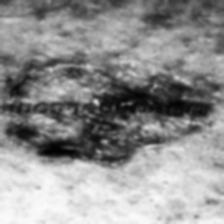Potentially Malignant Skin Tumors: (10, 66, 206, 166)
